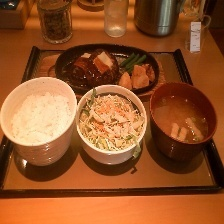rice: (1, 84, 73, 148)
